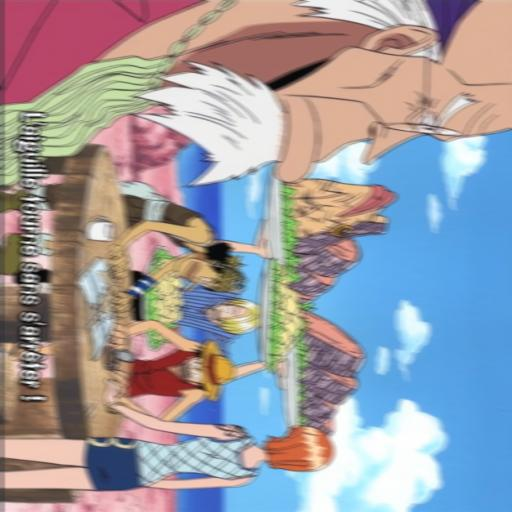Luffy: (92, 335, 230, 423)
Nami: (0, 405, 340, 495)
Usopp: (90, 175, 264, 286)
sanji: (151, 288, 261, 344)
